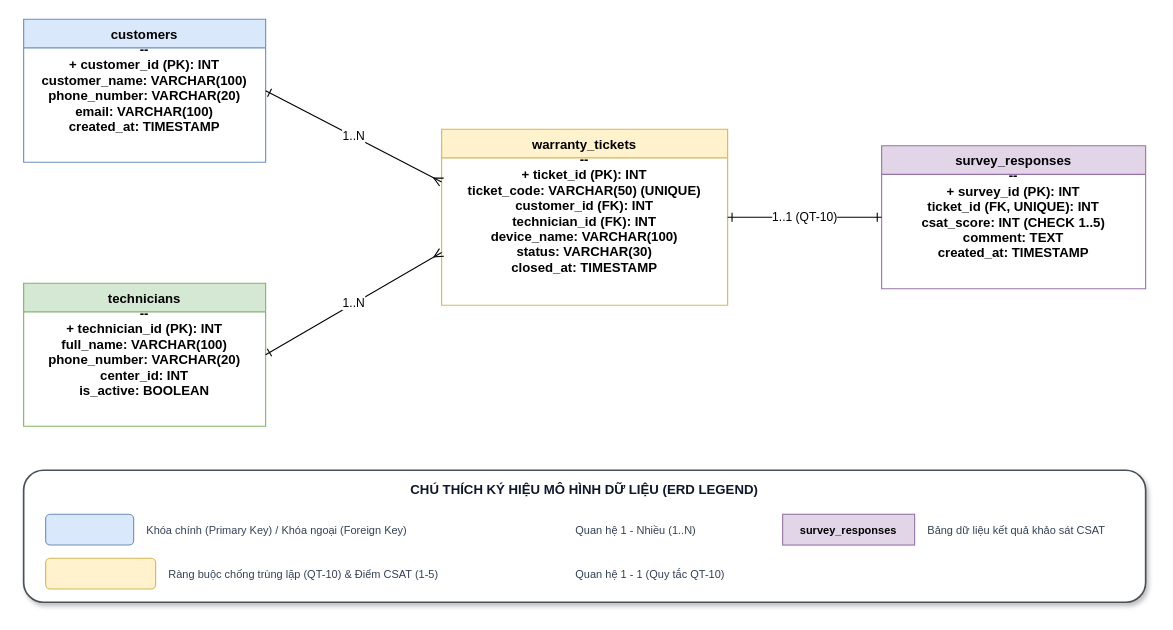
Some shapes in this 1173 by 630 pixel diagram are drawn without their labels. The centre of each missing label's shape, as x and y in pixels:
"PK / FK" goes at point (89, 529).
"UNIQUE / CHECK" goes at point (100, 573).
